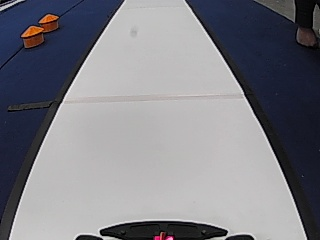granary: (19, 23, 44, 48), (38, 13, 59, 32)
